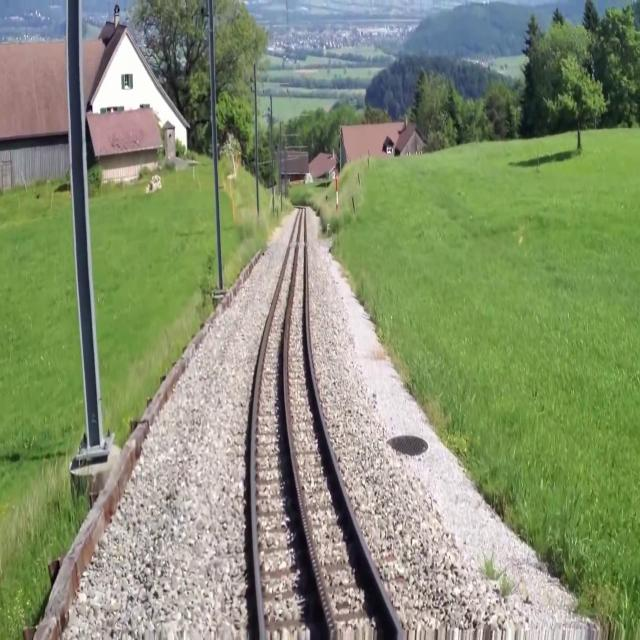rail-track: (254, 207, 401, 639)
